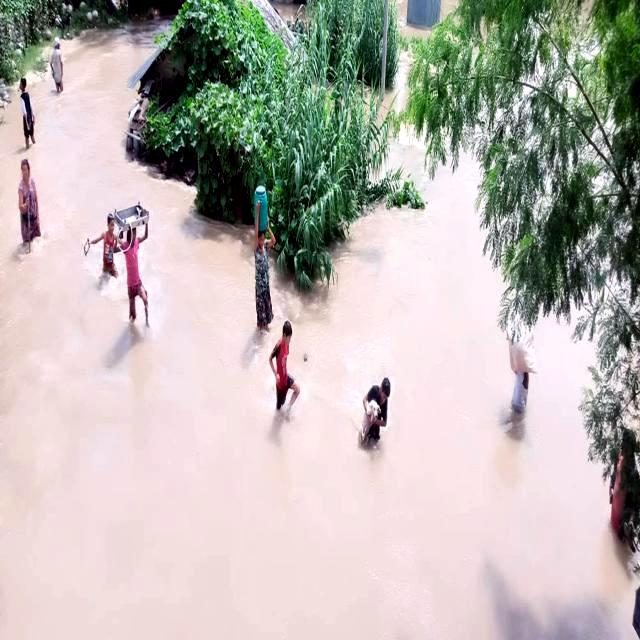civilian: (266, 318, 302, 434), (244, 225, 274, 339), (120, 228, 152, 328), (18, 158, 43, 255), (366, 368, 396, 448), (507, 359, 538, 433), (12, 76, 40, 148), (96, 208, 119, 282), (48, 37, 68, 102)
